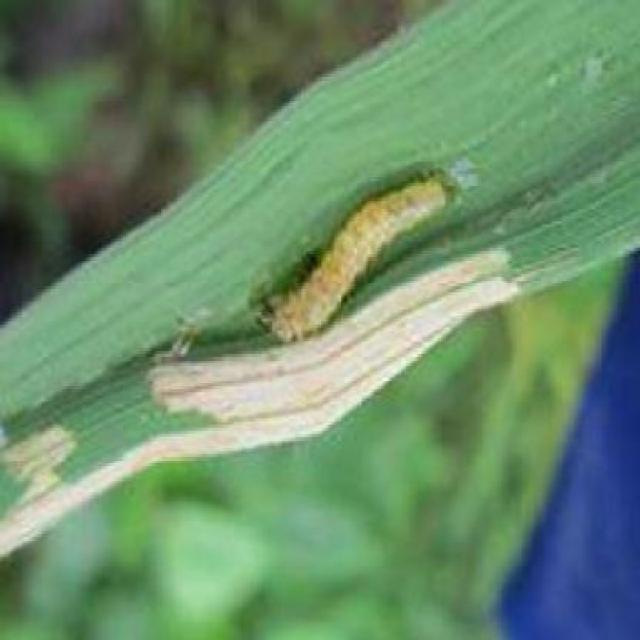leaf-folder: (252, 167, 478, 344)
